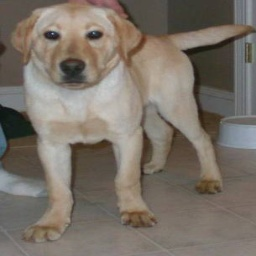dog: (10, 2, 230, 242)
